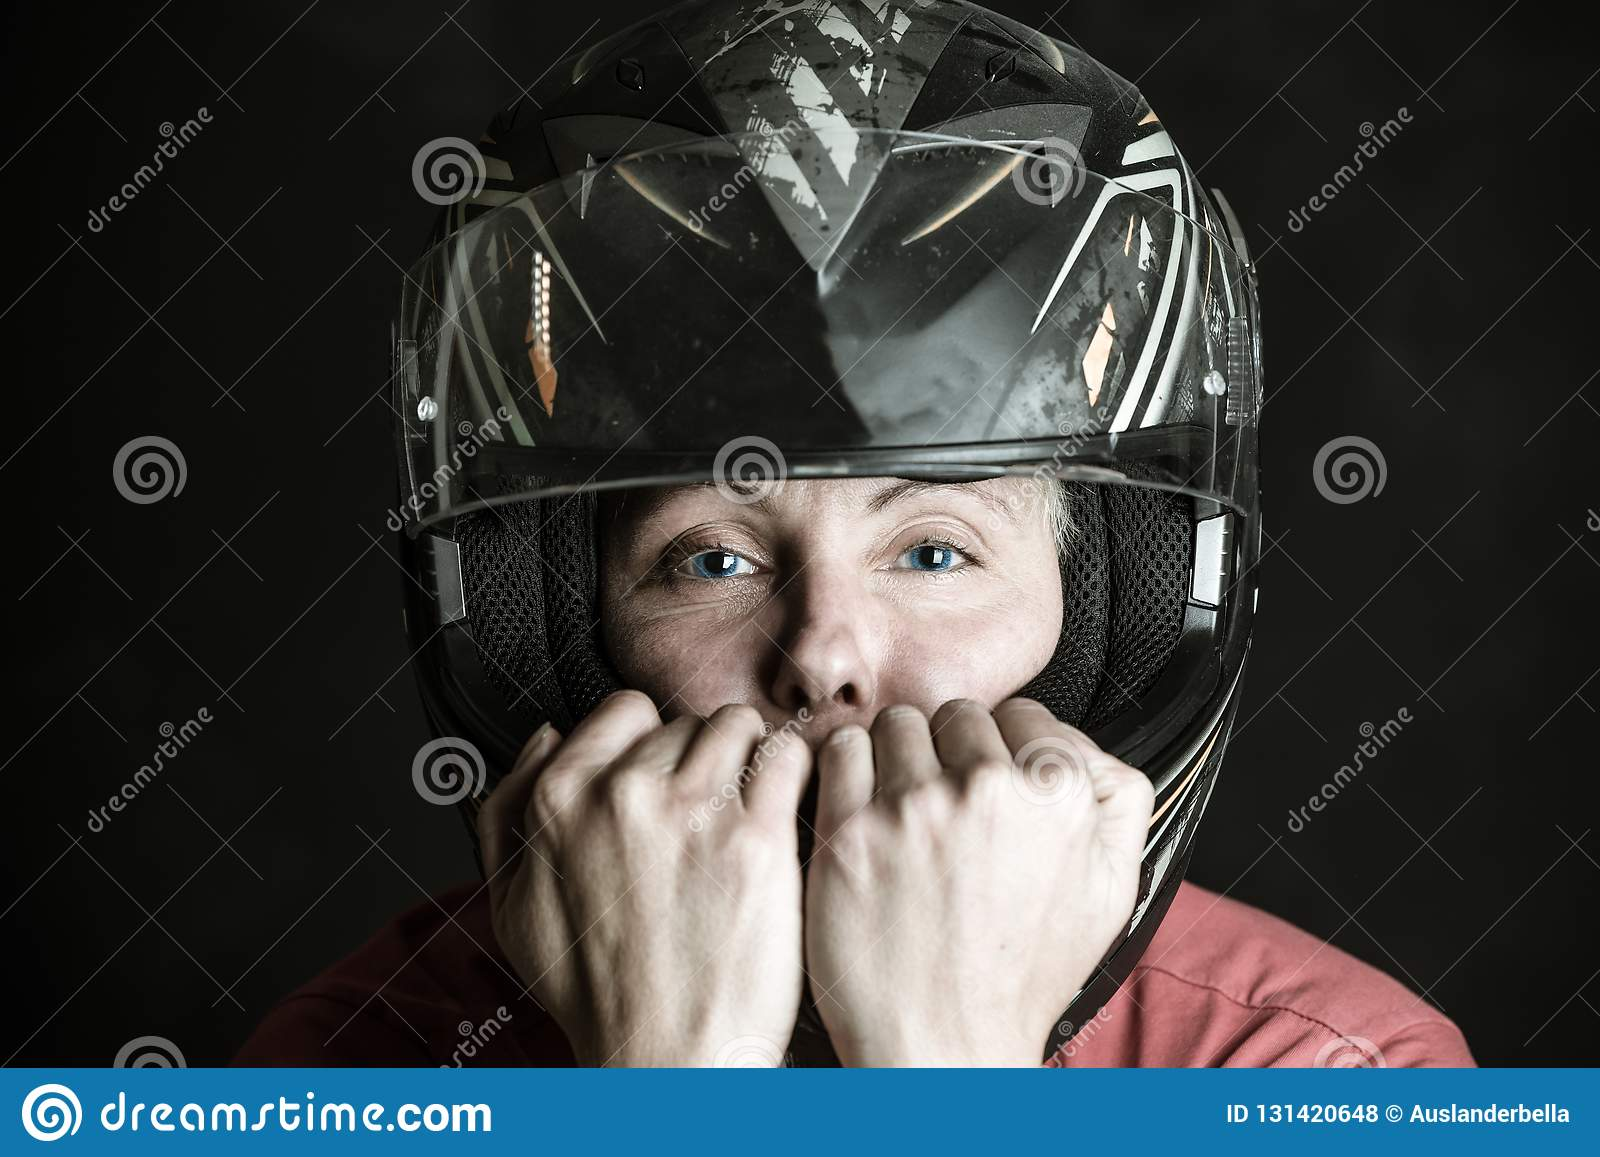helmet: (353, 27, 1309, 871)
